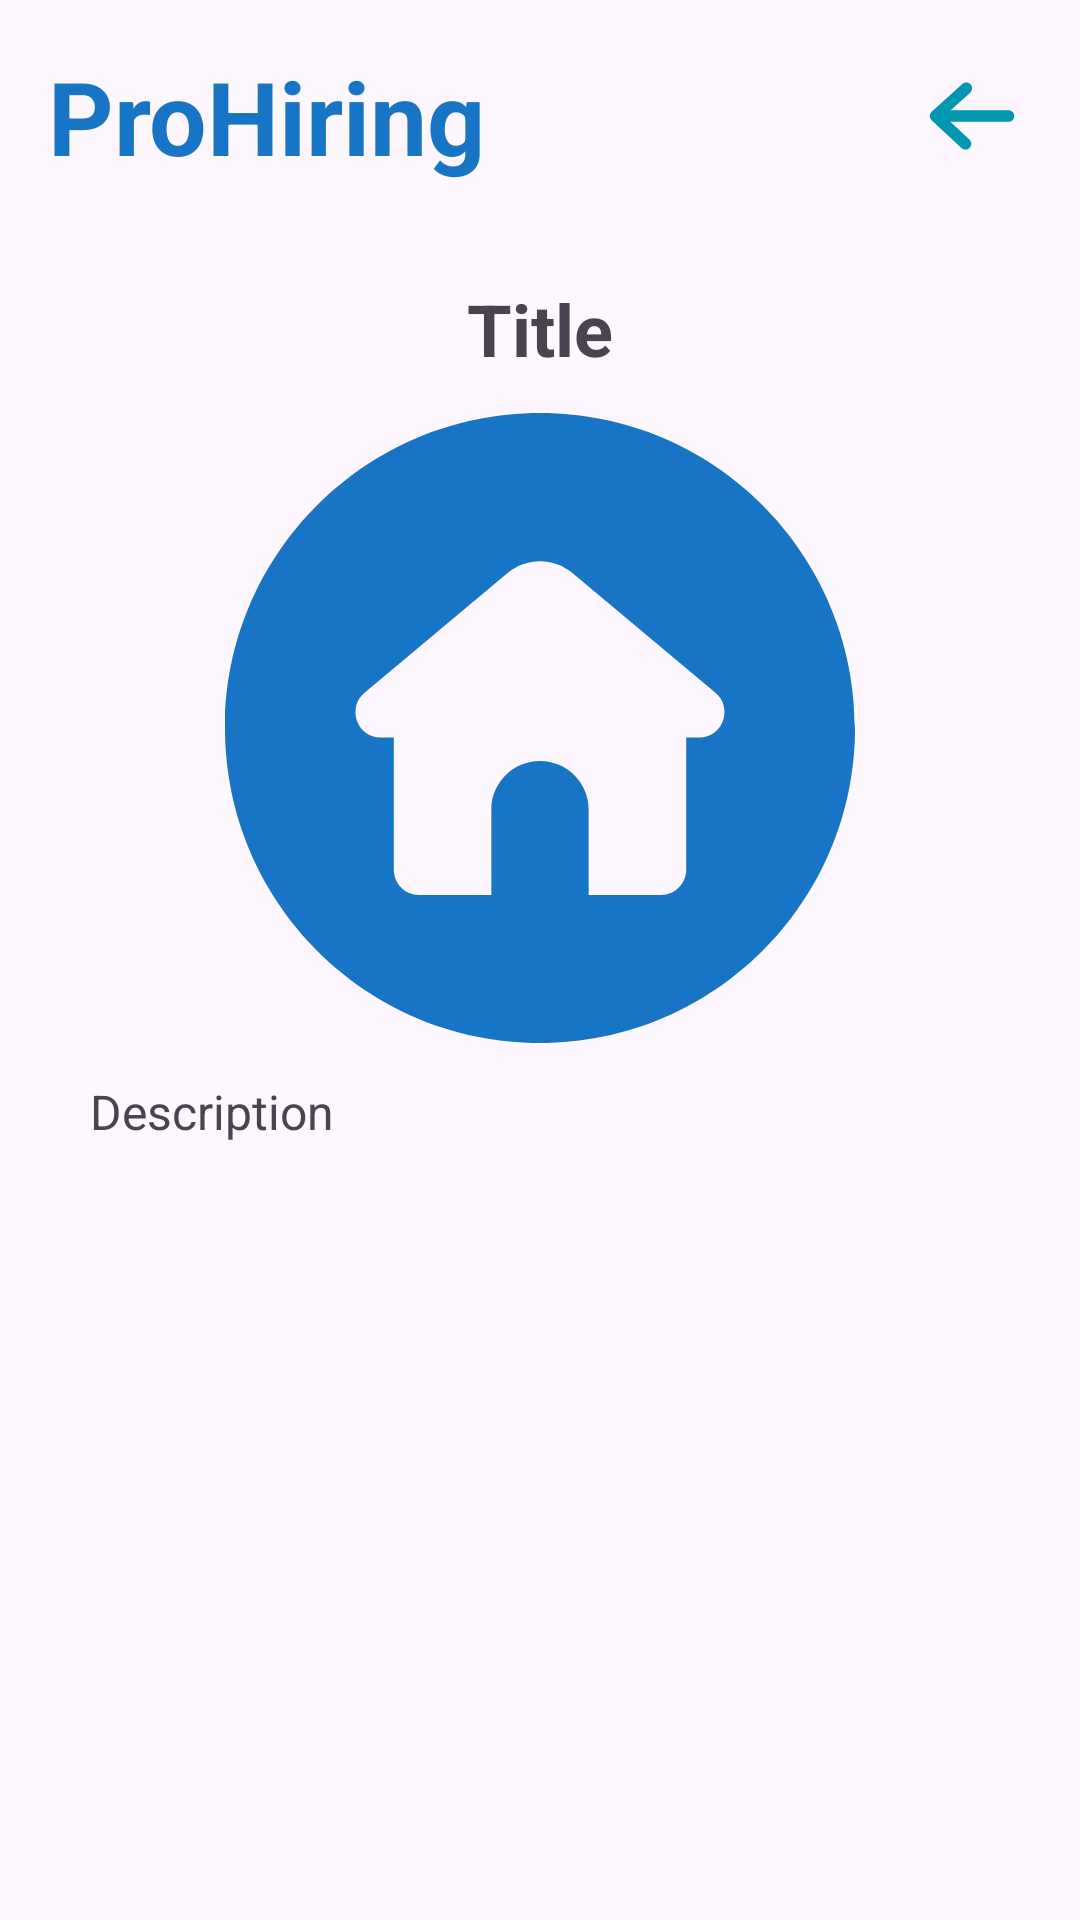

Icon bounding boxes for this 1080 x 1920 phone screenshot, format BBox(x1, y1, x2, y2):
Back: BBox(929, 82, 1015, 150)
